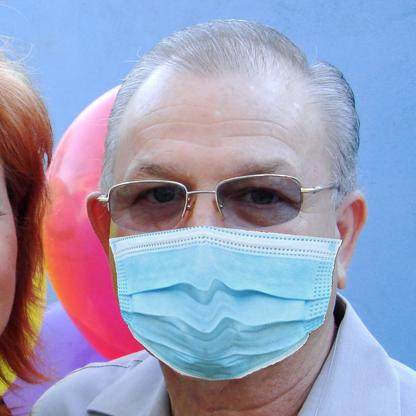mask: (103, 222, 344, 383)
